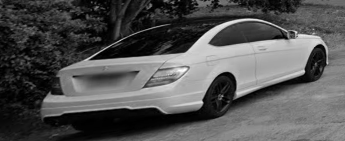car: (40, 18, 329, 127)
